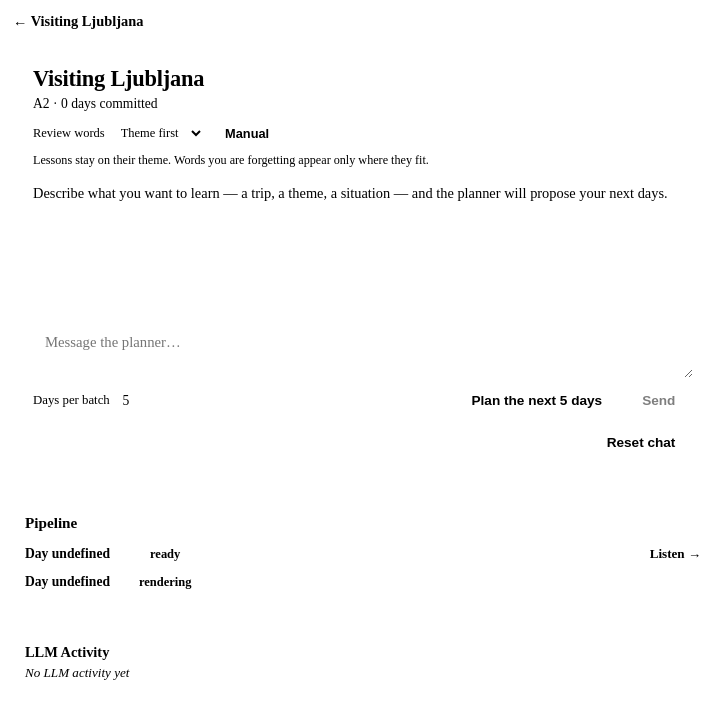
/c/[curriculumId]/plan page › reset chat › a non-Error reset rejection shows as text
Click the button "Reset chat": x=641, y=443 [589,427,693,458]
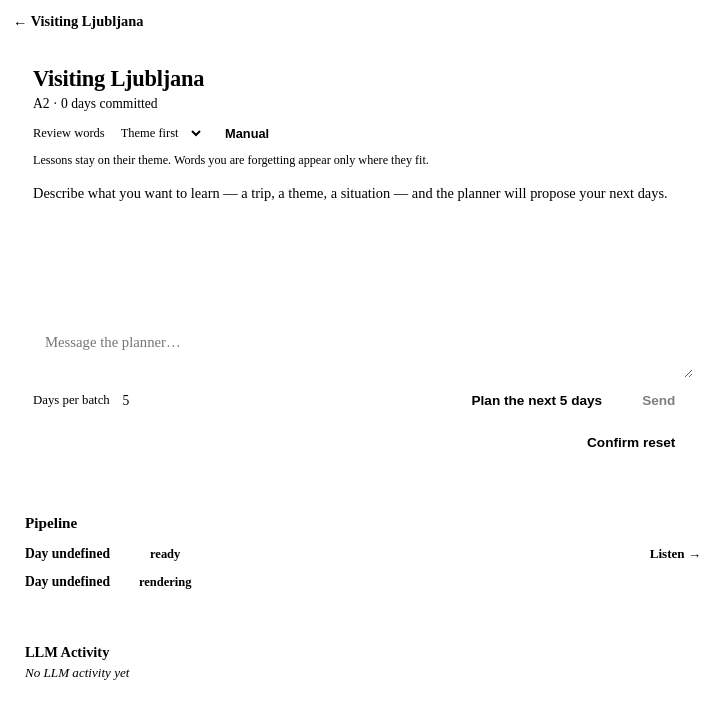
Click the button "Confirm reset": x=631, y=443 [569,427,693,458]
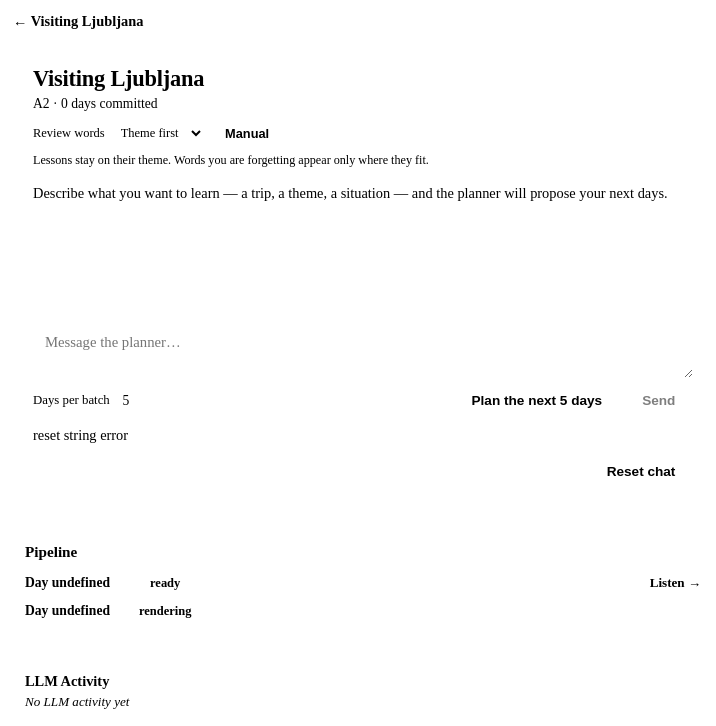
Expected: the text "reset string error" is shown, [33,427,128,443]
Expected: the button "Reset chat" is shown, [589,456,693,487]
